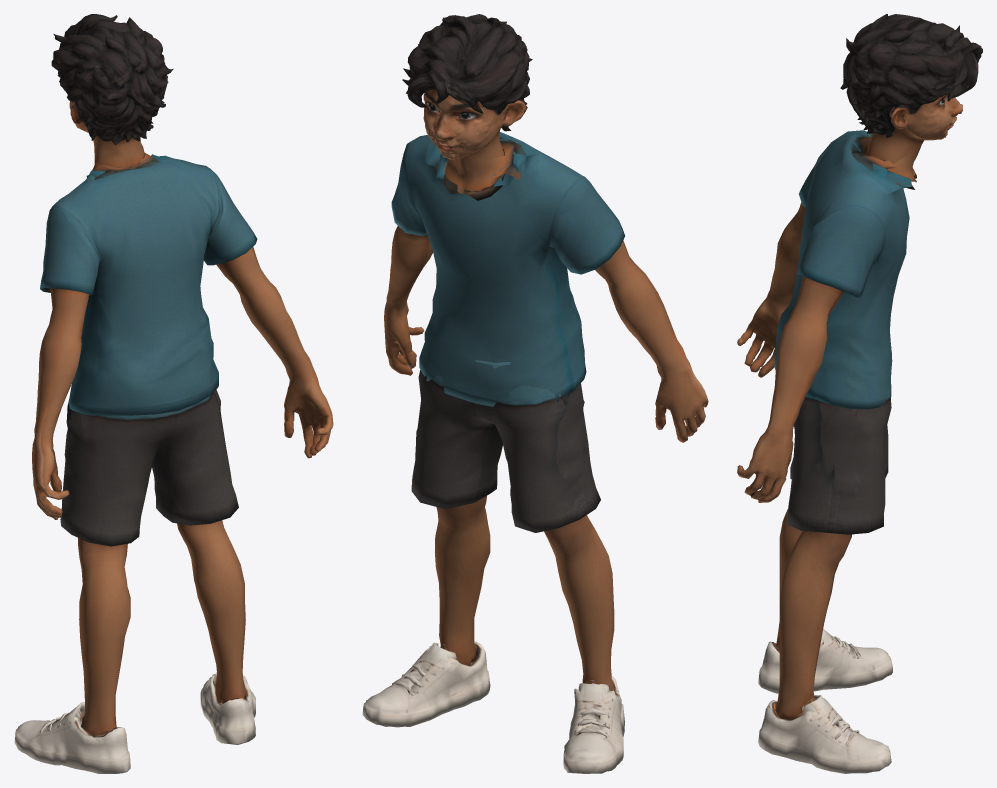
File: teen_courier_cage_rig_upper_body.glb
The picture shows the model from 3 angles, left to right: view 1: azimuth 30°, elevation 25°; view 2: azimuth 150°, elevation 25°; view 3: azimuth 270°, elevation 25°; orthographic projection. The views are drawn at different scales.
Parts seen in each view (by area): view 1: TeenCourier_Body; view 2: TeenCourier_Body; view 3: TeenCourier_Body.
Boxes of the visible parts, x1,y1,x2,y2 form: TeenCourier_Body: (14, 14, 333, 773); TeenCourier_Body: (362, 14, 708, 773); TeenCourier_Body: (737, 14, 982, 773).
Bounding box in the file's own units: 0.7133 × 1.6 × 0.5084.
5 materials, 5 textured.
